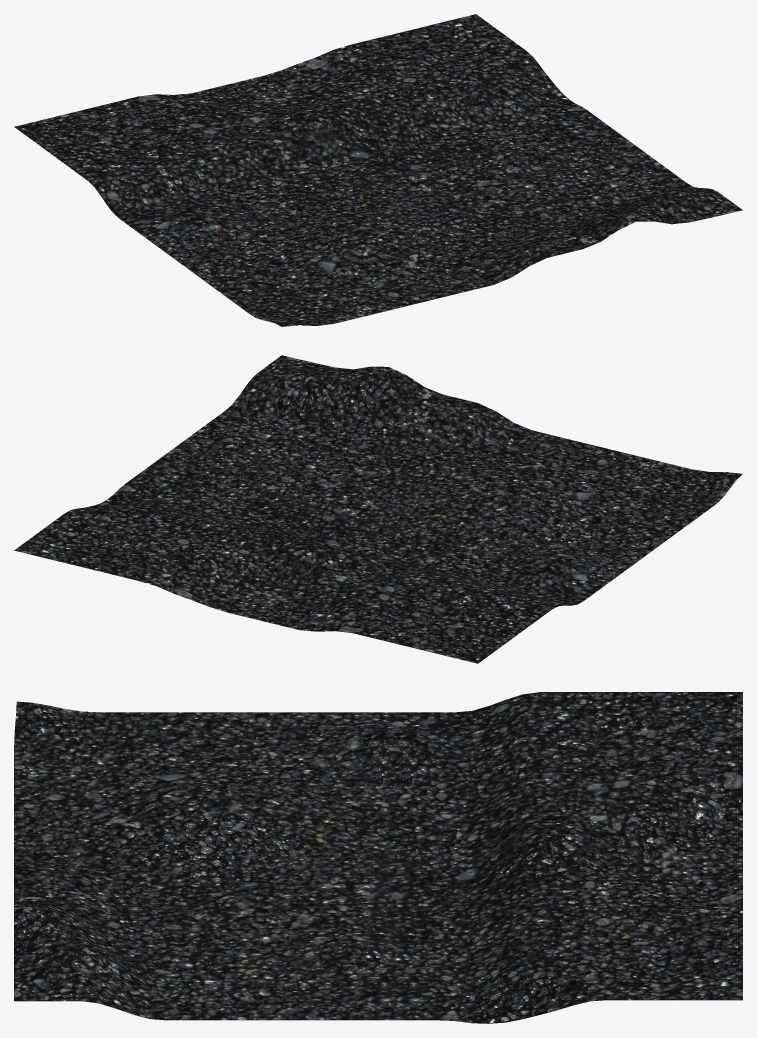
The model's file is floor.fbx.
3 views of the same model, one above another, from view 1: azimuth 30°, elevation 25°; view 2: azimuth 150°, elevation 25°; view 3: azimuth 270°, elevation 25° (orthographic). The views are drawn at different scales.
Visible parts, largest first — view 1: Plane; view 2: Plane; view 3: Plane.
Boxes of the visible parts, x1,y1,x2,y2 form: Plane: (14, 14, 742, 326); Plane: (14, 355, 742, 663); Plane: (14, 692, 742, 1023).
Size of the model in its own units: 7370 by 499 by 7370.
